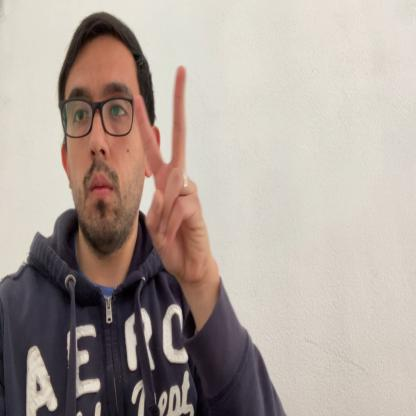V: (134, 65, 208, 279)
